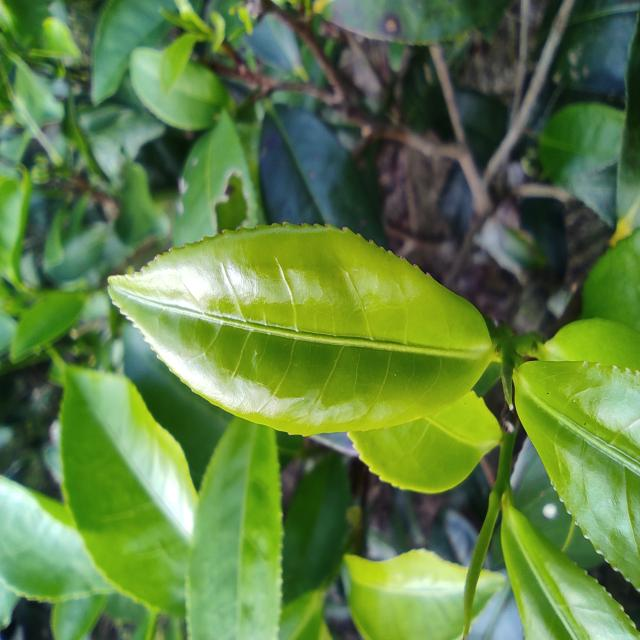Category B(2-4 days): (88, 207, 506, 448)
